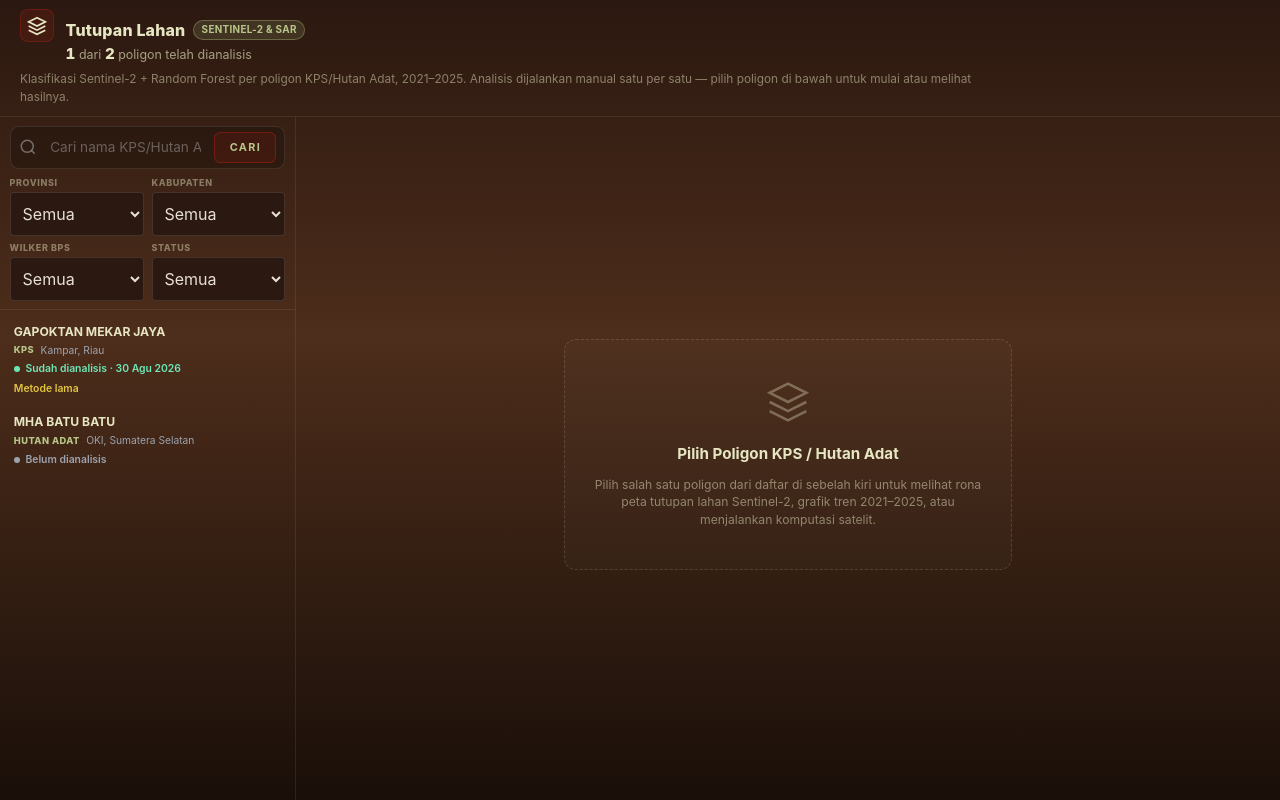
Test: TutupanLahanView › opens the reused LandCoverPanel detail when a row is clicked
The width and height of the screenshot is (1280, 800).
Click the button "GAPOKTAN MEKAR JAYA": (90, 331) [14,324,181,394]
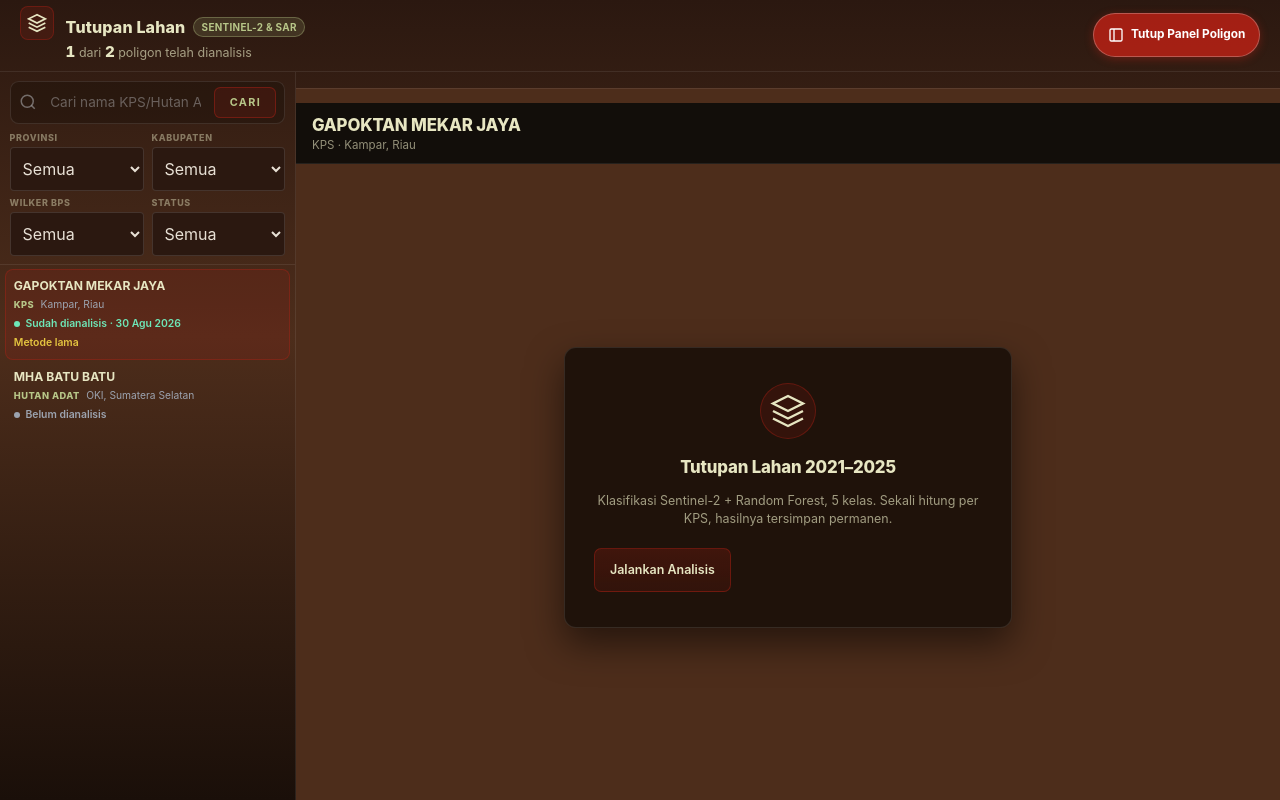
Check: the button "Jalankan Analisis" is shown, box [594,548,731,592]
